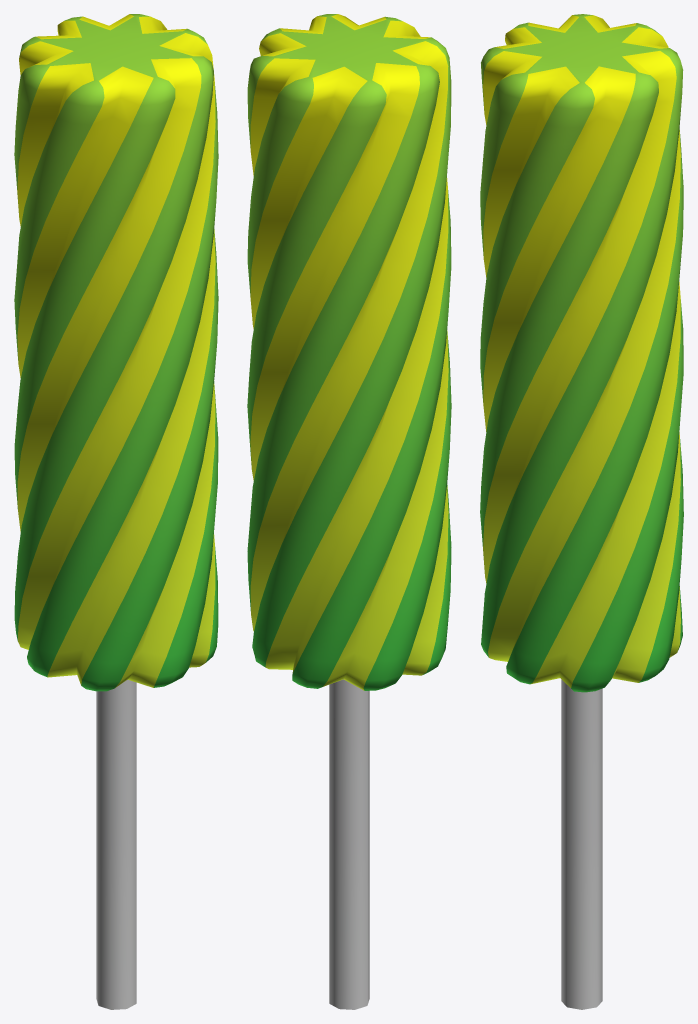
File: ice_cream_003.glb
3 renders of one model, left to right at view 1: azimuth 30°, elevation 25°; view 2: azimuth 150°, elevation 25°; view 3: azimuth 270°, elevation 25°, orthographic.
Visible parts, largest first — view 1: ice_cream_003; view 2: ice_cream_003; view 3: ice_cream_003.
Boxes of the visible parts, x1=… form: ice_cream_003: x1=14, y1=14, x2=218, y2=1009; ice_cream_003: x1=247, y1=14, x2=451, y2=1009; ice_cream_003: x1=480, y1=14, x2=683, y2=1009.
Size of the model in its own units: 1.43 by 7.37 by 1.43.
Materials: 1 (1 with a texture image).
